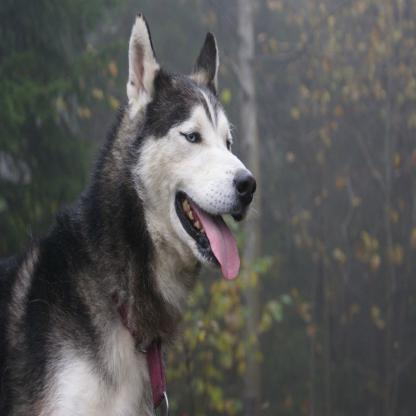husky: (0, 13, 256, 416)
